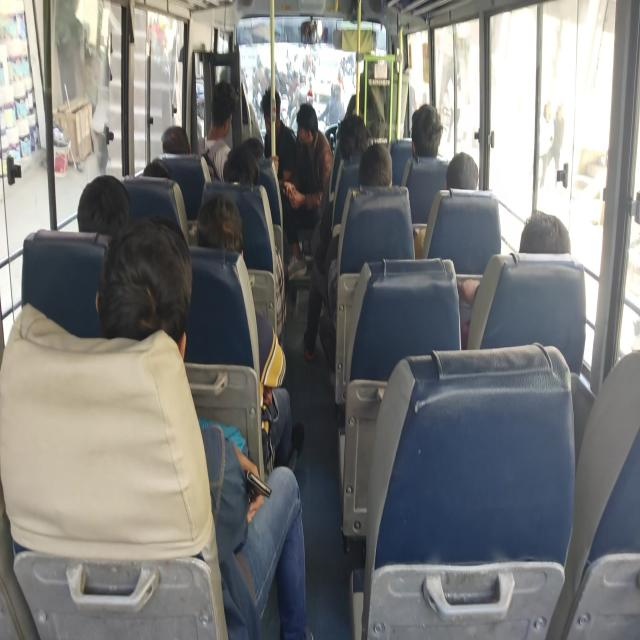person: (108, 227, 193, 339), (80, 170, 140, 243), (518, 202, 565, 260), (398, 115, 439, 168), (260, 92, 299, 144), (372, 140, 406, 195), (202, 209, 242, 250), (337, 114, 371, 162), (450, 155, 486, 200), (147, 152, 183, 195), (165, 121, 199, 162), (296, 107, 327, 150), (210, 82, 240, 124), (237, 146, 265, 188), (244, 124, 265, 151)
